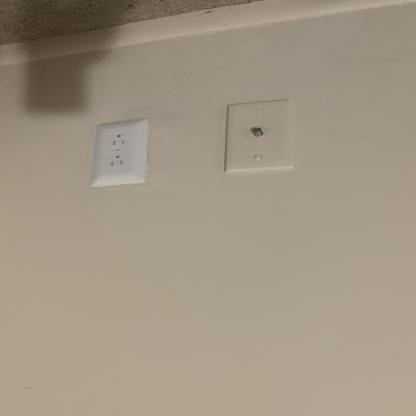OUTLET: (90, 119, 148, 188)
